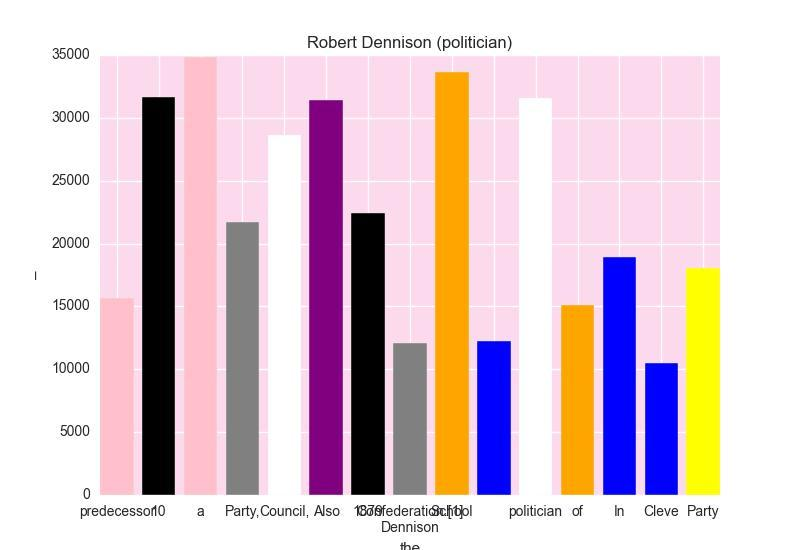axis: (30, 49, 90, 502)
rectangle: (184, 57, 217, 495), (435, 72, 469, 495), (142, 97, 176, 495), (518, 98, 552, 495), (309, 100, 343, 495), (268, 135, 302, 495), (351, 213, 385, 495), (226, 222, 260, 495), (602, 257, 636, 495), (686, 268, 720, 495), (100, 298, 134, 495), (560, 305, 594, 495), (477, 341, 511, 495), (393, 343, 427, 495), (644, 363, 678, 495)
